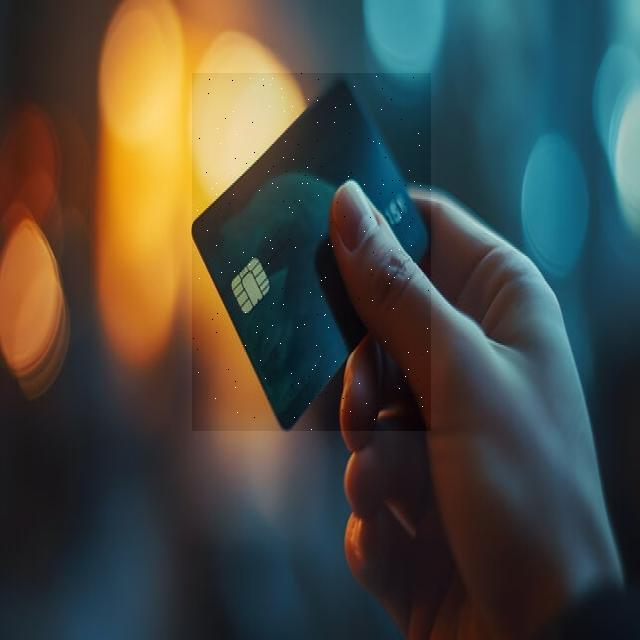payment_card: (190, 76, 431, 430)
